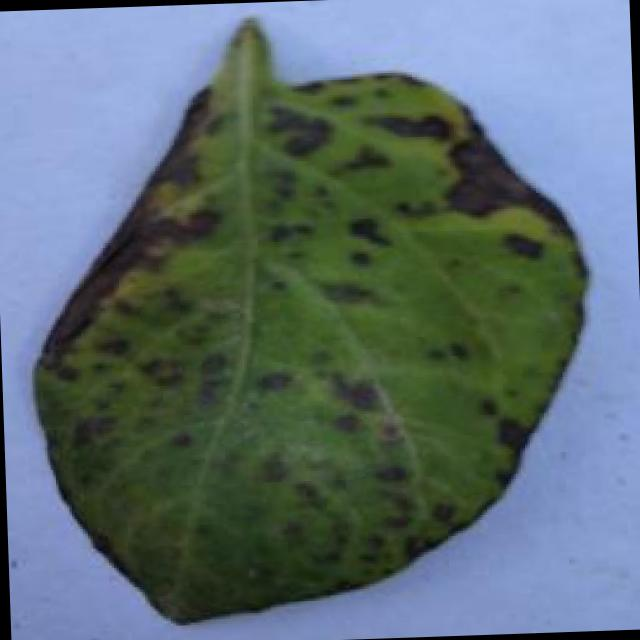Potato_Early_Blight: (23, 0, 596, 630)
